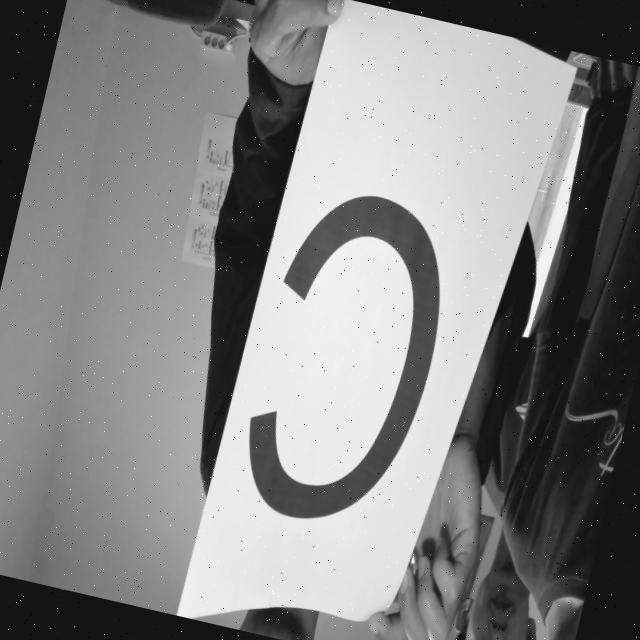c: (212, 145, 486, 560)
